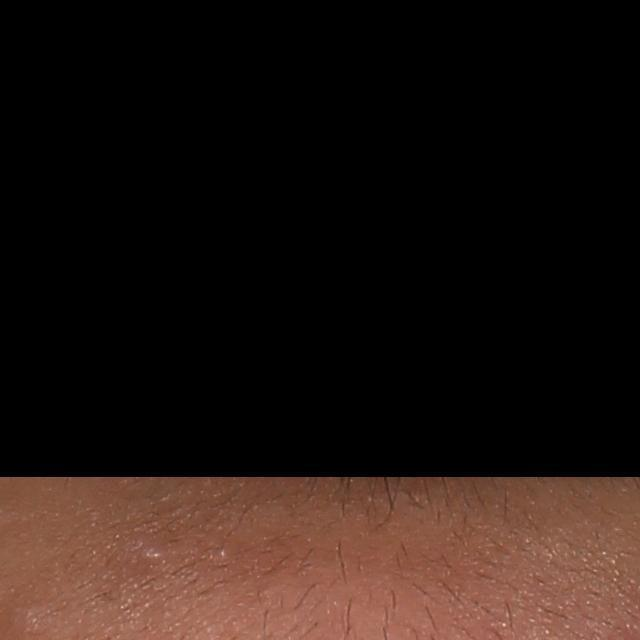comedo: (137, 545, 168, 565)
